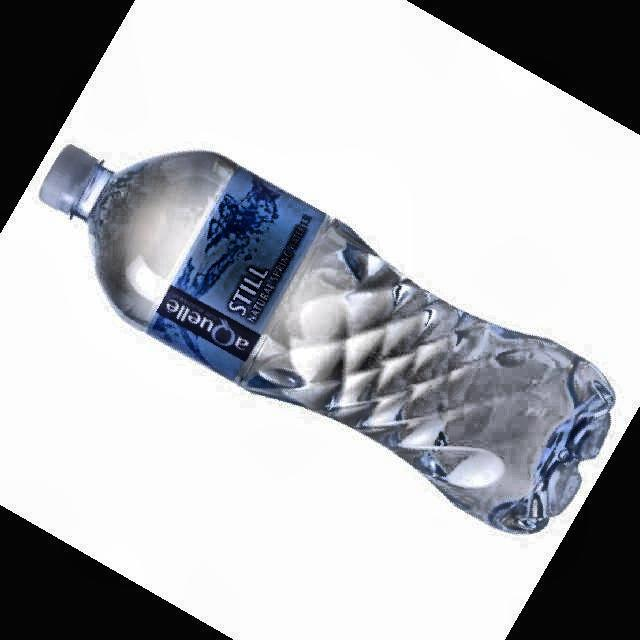plastic: (40, 145, 615, 533)
